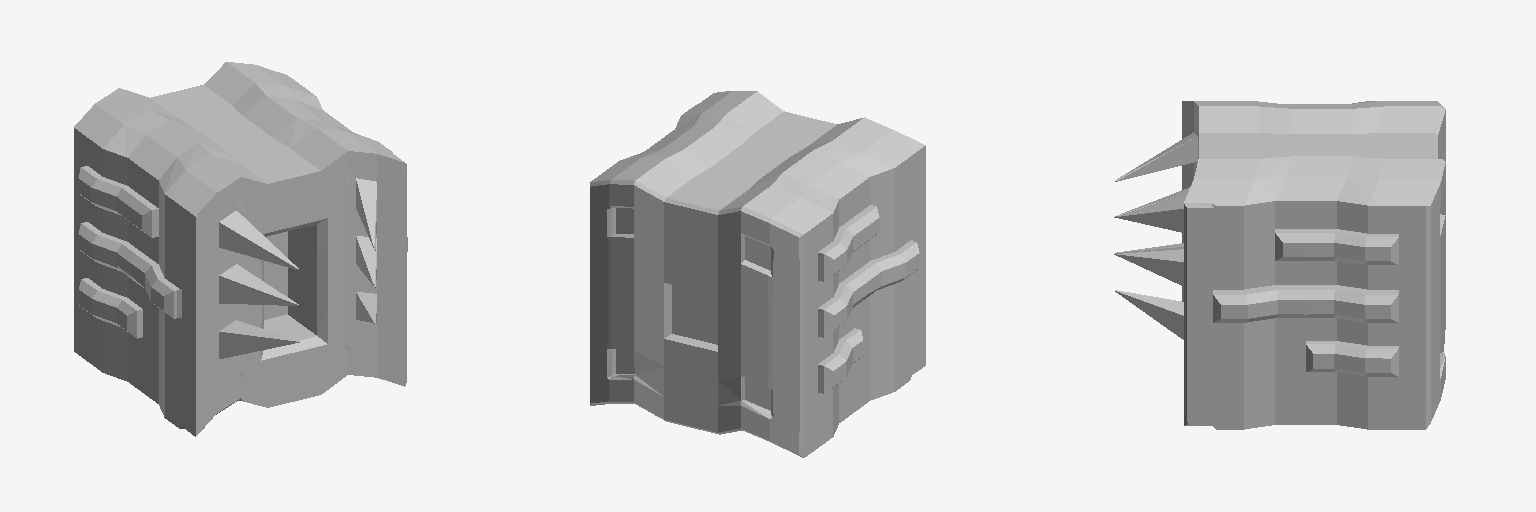
The model's file is EnemyFollowLookdir.obj.
3 renders of one model, left to right at view 1: azimuth 30°, elevation 25°; view 2: azimuth 150°, elevation 25°; view 3: azimuth 270°, elevation 25°, orthographic.
Visible parts, largest first — view 1: pCube1; view 2: pCube1; view 3: pCube1.
Boxes of the visible parts, x1,y1,x2,y2 form: pCube1: [74, 62, 407, 436]; pCube1: [590, 91, 925, 457]; pCube1: [1114, 101, 1445, 429].
Size of the model in its own units: 0.4565 by 0.437 by 0.5365.